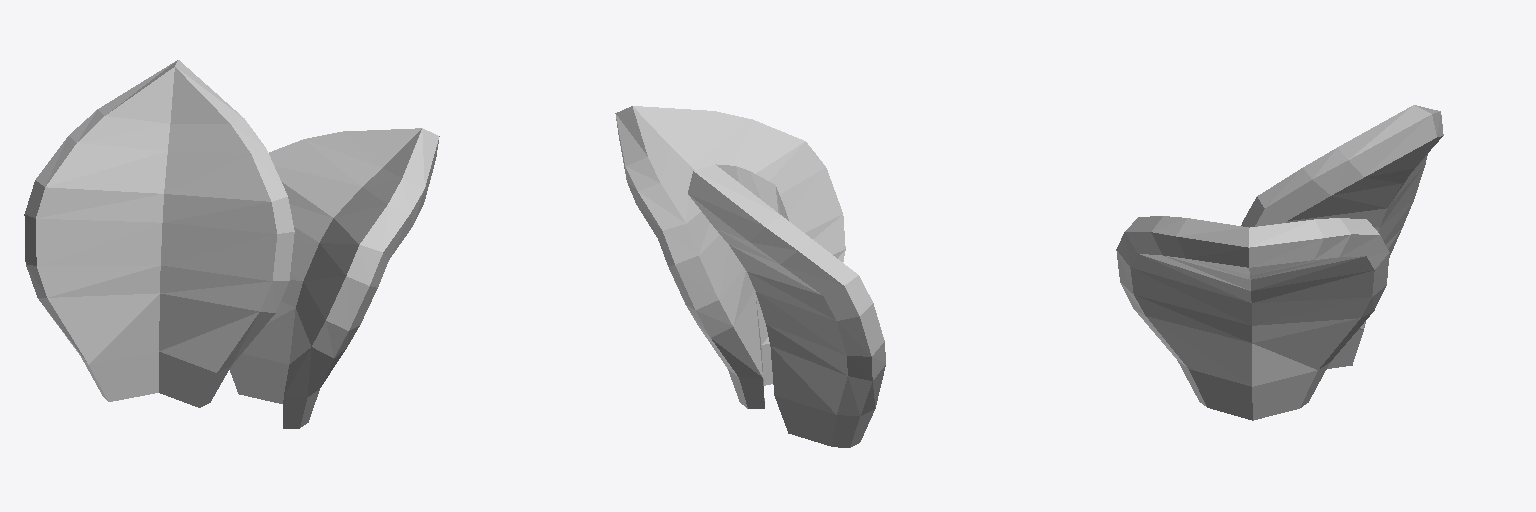
File: foliage_A.obj
The picture shows the model from 3 angles: view 1: azimuth 30°, elevation 25°; view 2: azimuth 150°, elevation 25°; view 3: azimuth 270°, elevation 25°; orthographic projection.
Visible parts, largest first — view 1: foliage_A; view 2: foliage_A; view 3: foliage_A.
Boxes of the visible parts, <box> form: foliage_A: <box>24,60,439,428</box>; foliage_A: <box>615,106,885,447</box>; foliage_A: <box>1116,105,1443,420</box>.
Size of the model in its own units: 0.5275 by 0.4319 by 0.445.